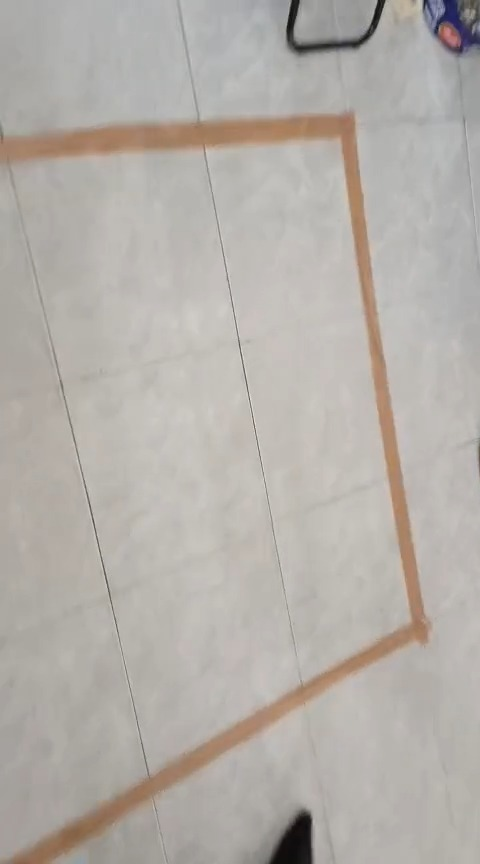floor marking: (0, 114, 428, 863)
